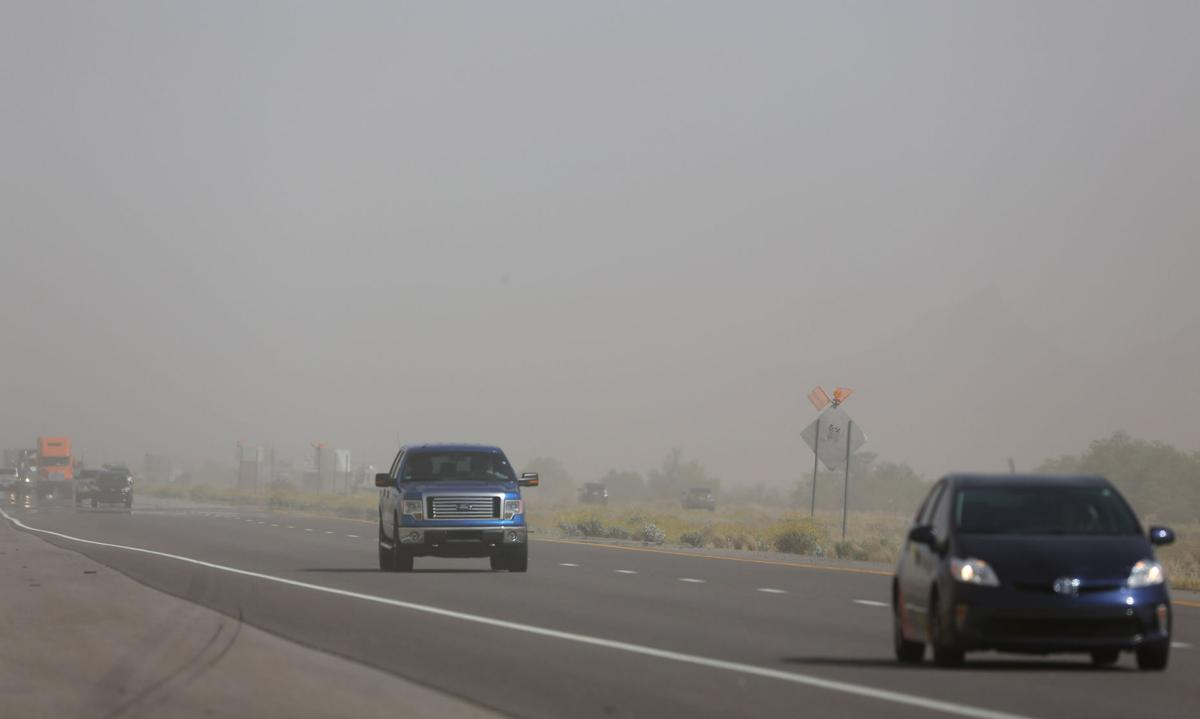car: (884, 468, 1180, 669), (365, 444, 533, 572), (91, 467, 132, 509), (679, 485, 715, 513), (576, 480, 608, 504), (72, 467, 93, 500), (2, 468, 19, 494)
truck: (33, 432, 70, 498), (6, 448, 39, 490)
